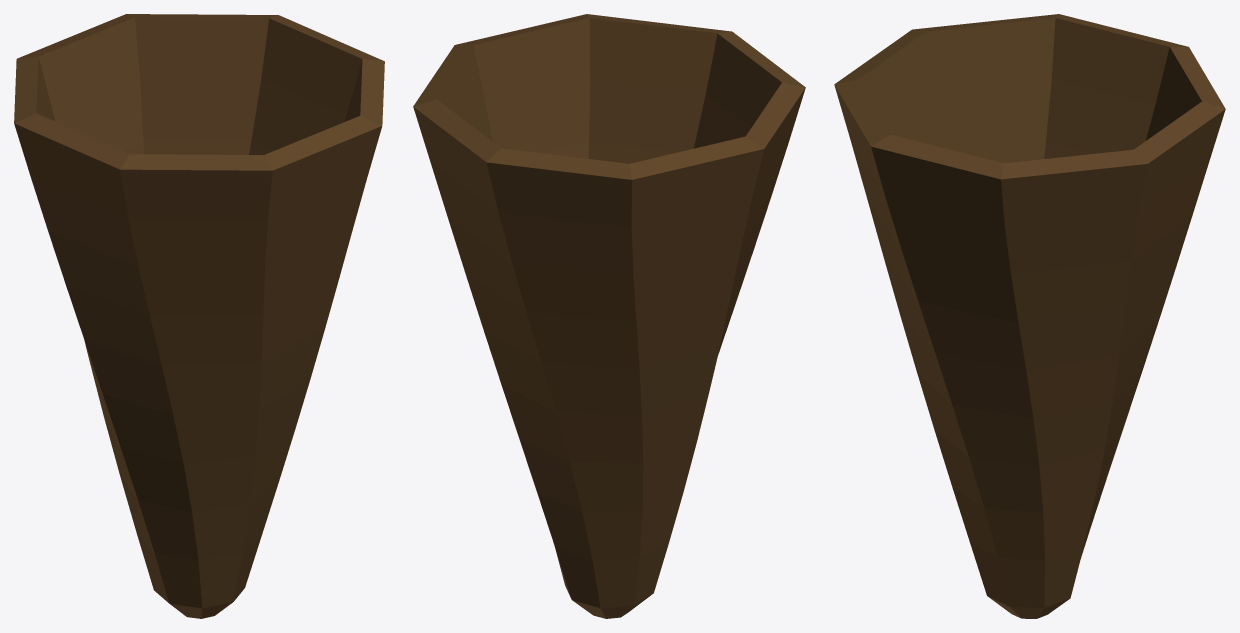
The model's file is IceCream_Cone.obj.
The picture shows the model from 3 angles, left to right: view 1: azimuth 30°, elevation 25°; view 2: azimuth 150°, elevation 25°; view 3: azimuth 270°, elevation 25°; orthographic projection.
Visible parts, largest first — view 1: IceCream_Cone_Cylinder.028; view 2: IceCream_Cone_Cylinder.028; view 3: IceCream_Cone_Cylinder.028.
Boxes of the visible parts, x1,y1,x2,y2 form: IceCream_Cone_Cylinder.028: (14,14,384,618); IceCream_Cone_Cylinder.028: (413,14,805,618); IceCream_Cone_Cylinder.028: (834,14,1225,618).
Size of the model in its own units: 0.5524 by 0.8104 by 0.5524.
